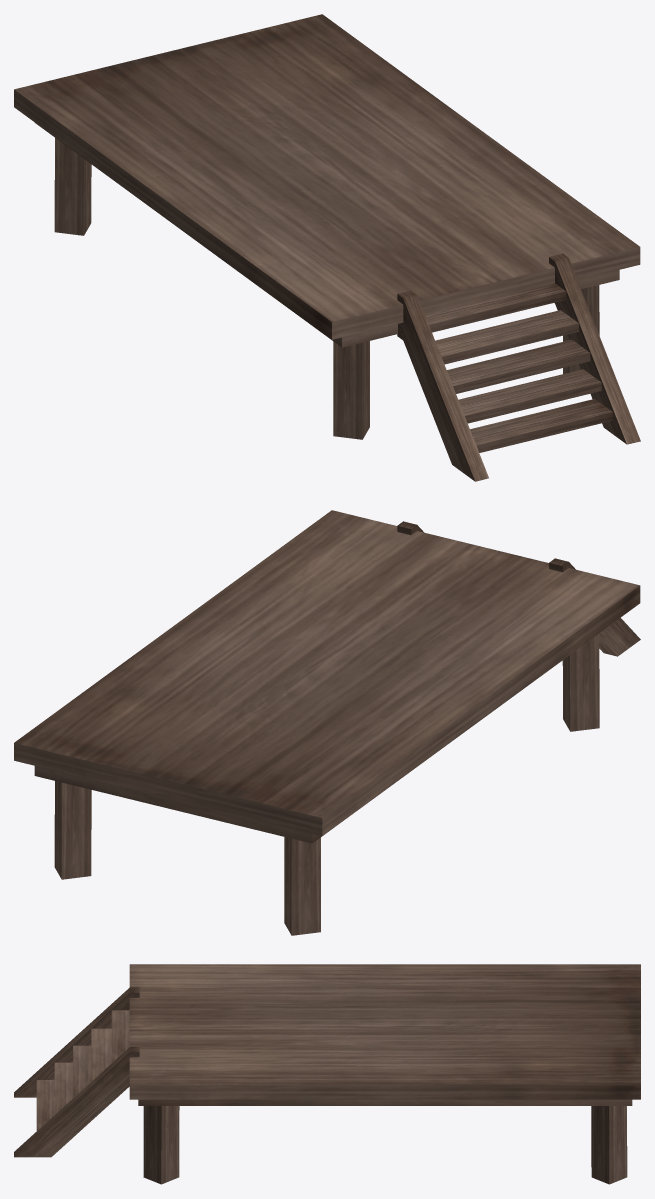
Rendered from handan_field_a_r03.fbx.
The picture shows the model from 3 angles, top to bottom: view 1: azimuth 30°, elevation 25°; view 2: azimuth 150°, elevation 25°; view 3: azimuth 270°, elevation 25°; orthographic projection. The views are drawn at different scales.
Visible parts, largest first — view 1: handan_field_a_r03; view 2: handan_field_a_r03; view 3: handan_field_a_r03.
Part boxes in pixels (<box>): handan_field_a_r03: <box>14,14,640,481</box>; handan_field_a_r03: <box>14,510,640,935</box>; handan_field_a_r03: <box>14,964,640,1184</box>.
Bounding box in the file's own units: 196 × 84.9 × 429.
